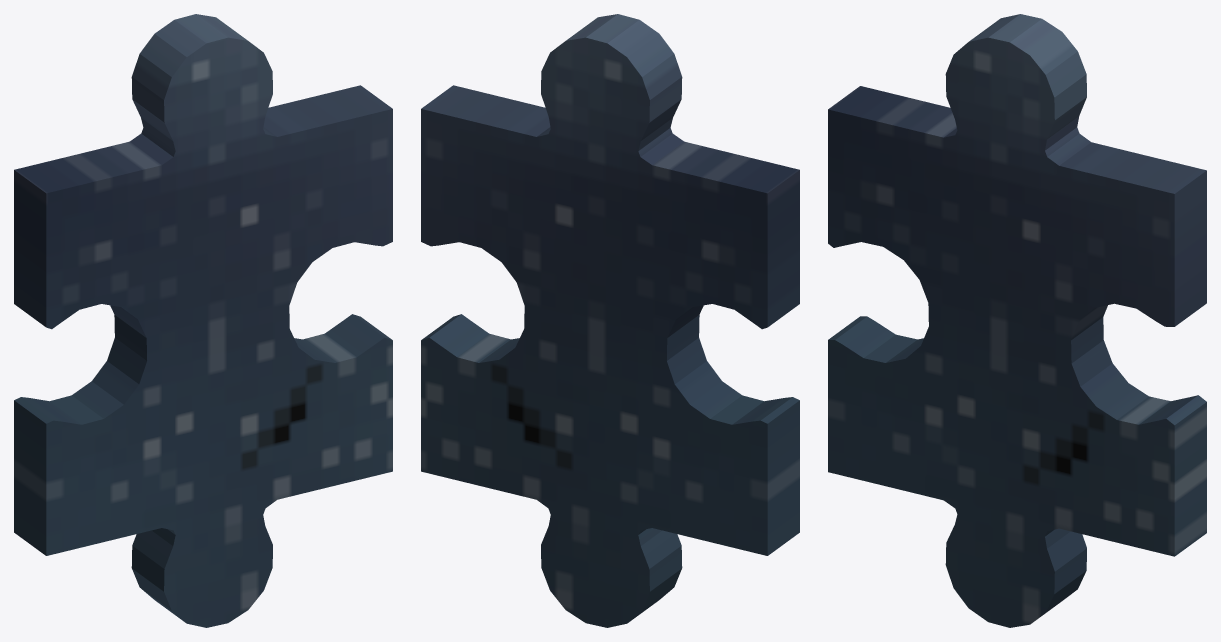
File: Piece_1_005.fbx
3 renders of one model, left to right at view 1: azimuth 30°, elevation 25°; view 2: azimuth 150°, elevation 25°; view 3: azimuth 330°, elevation 25°, orthographic.
Visible parts, largest first — view 1: Piece 1.005; view 2: Piece 1.005; view 3: Piece 1.005.
Part boxes in pixels (<box>): Piece 1.005: <box>14,14,392,627</box>; Piece 1.005: <box>421,14,799,627</box>; Piece 1.005: <box>828,14,1206,627</box>.
Size of the model in its own units: 80.52 by 130 by 12.98.
